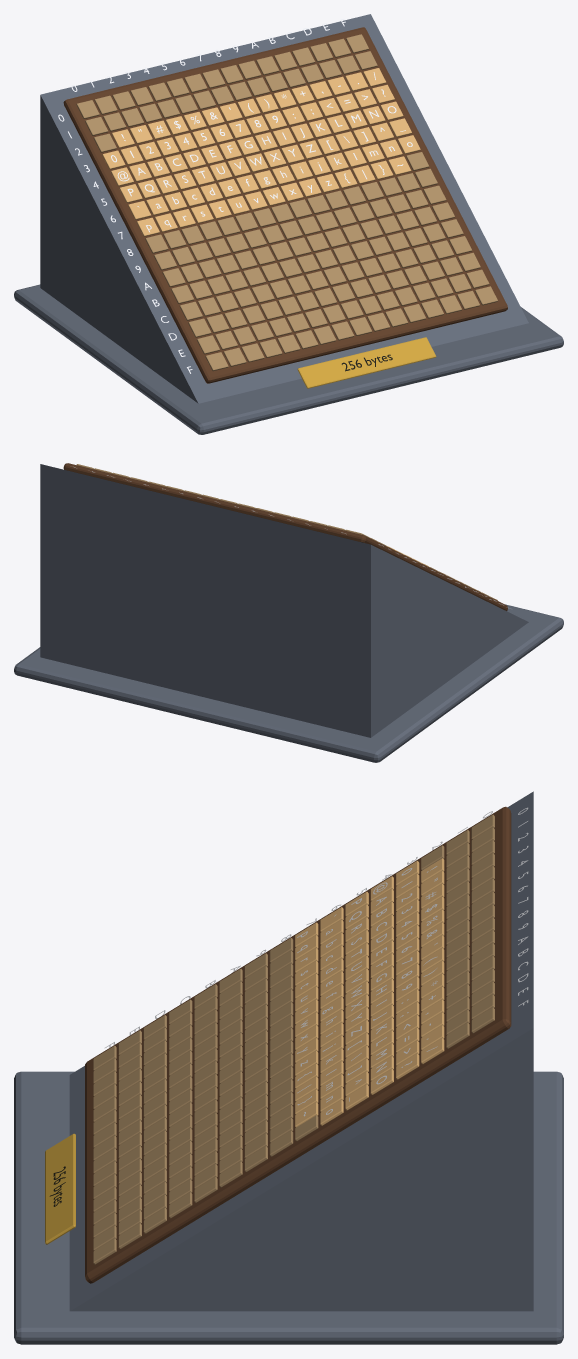
Rendered from base_alphabet.glb.
3 renders of one model, top to bottom at view 1: azimuth 30°, elevation 25°; view 2: azimuth 150°, elevation 25°; view 3: azimuth 270°, elevation 25°, orthographic. The views are drawn at different scales.
Parts seen in each view (by area): view 1: c0, slope, frame, c33, stand, plate, g33; view 2: slope, stand, frame, c0; view 3: slope, c0, stand, c33, frame, g33, plate.
Boxes of the visible parts, x1,y1,x2,y2 form: c0: (76, 34, 497, 371); slope: (40, 14, 528, 403); frame: (63, 27, 507, 383); c33: (102, 68, 420, 236); stand: (14, 284, 563, 434); plate: (297, 337, 436, 388); g33: (58, 19, 412, 373); slope: (40, 464, 528, 737); stand: (14, 604, 563, 762); frame: (63, 463, 507, 610); c0: (76, 464, 497, 600); slope: (69, 791, 533, 1311); c0: (93, 814, 494, 1264); stand: (14, 1071, 563, 1344); c33: (295, 858, 444, 1127); frame: (85, 806, 511, 1283); g33: (104, 807, 528, 1116); plate: (45, 1133, 75, 1244).
Bounding box in the file's own units: 1.02 × 0.5658 × 0.9043.
